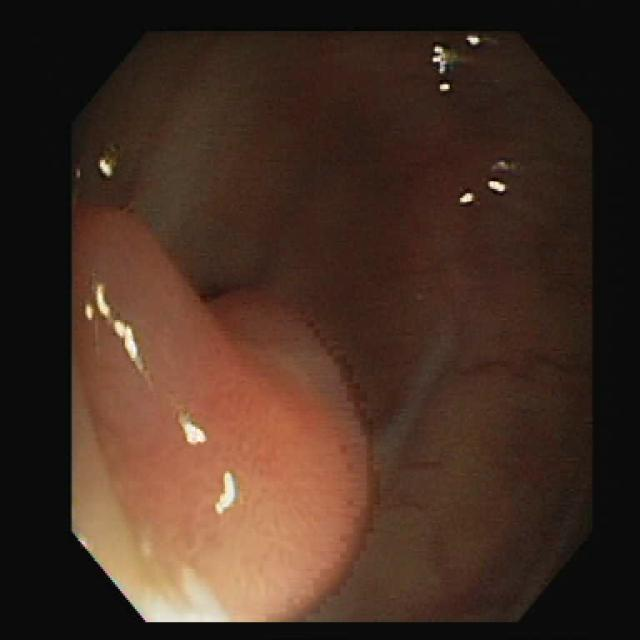tumor: (73, 207, 377, 620)
